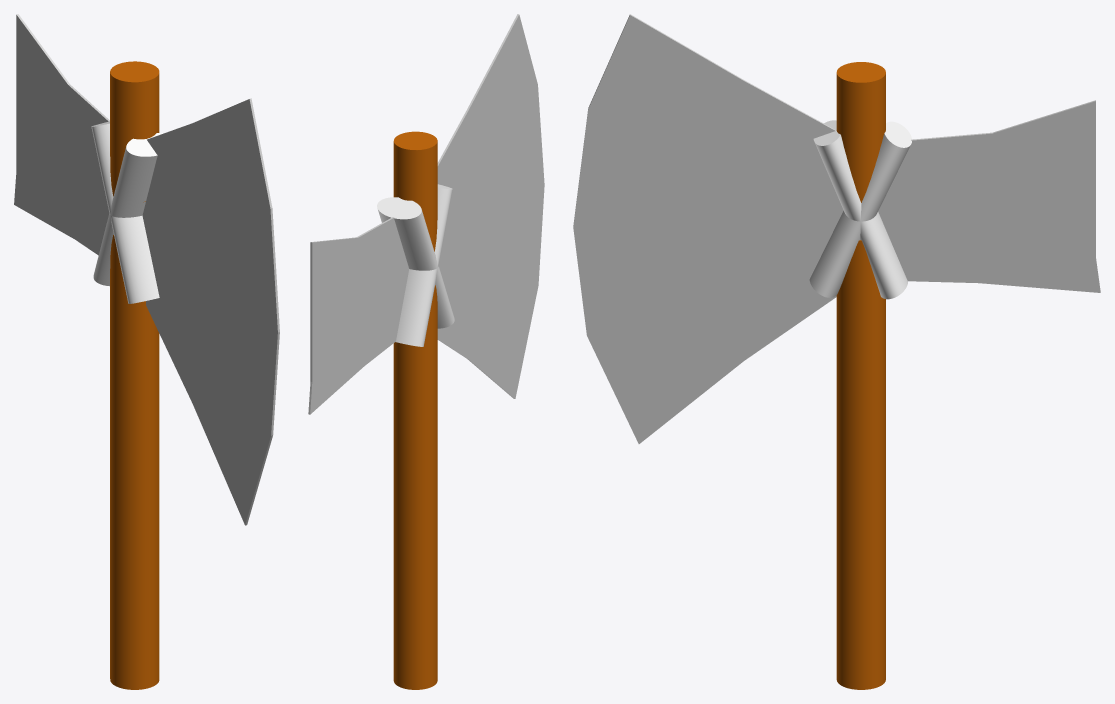
The model's file is axe.fbx.
3 views of the same model, side by side, from view 1: azimuth 30°, elevation 25°; view 2: azimuth 150°, elevation 25°; view 3: azimuth 270°, elevation 25° (orthographic). The views are drawn at different scales.
Visible parts, largest first — view 1: Plane, Cylinder, Cylinder.003, Cylinder.001, Cylinder.002; view 2: Plane, Cylinder, Cylinder.003, Cylinder.001, Cylinder.002; view 3: Plane, Cylinder, Cylinder.003, Cylinder.001, Cylinder.002.
Boxes of the visible parts, <box> form: Plane: <box>14,14,279,525</box>; Cylinder: <box>110,235,159,689</box>; Cylinder.003: <box>110,61,159,202</box>; Cylinder.001: <box>91,121,159,303</box>; Cylinder.002: <box>93,133,163,286</box>; Plane: <box>308,14,544,414</box>; Cylinder: <box>393,285,437,689</box>; Cylinder.003: <box>393,131,437,251</box>; Cylinder.001: <box>377,197,454,328</box>; Cylinder.002: <box>396,184,452,346</box>; Plane: <box>573,14,1100,443</box>; Cylinder: <box>836,240,885,689</box>; Cylinder.003: <box>836,62,885,202</box>; Cylinder.001: <box>809,121,911,297</box>; Cylinder.002: <box>813,120,907,299</box>.
Size of the model in its own units: 9.1 by 120 by 85.91.
Materials: 5 (4 with a texture image).
